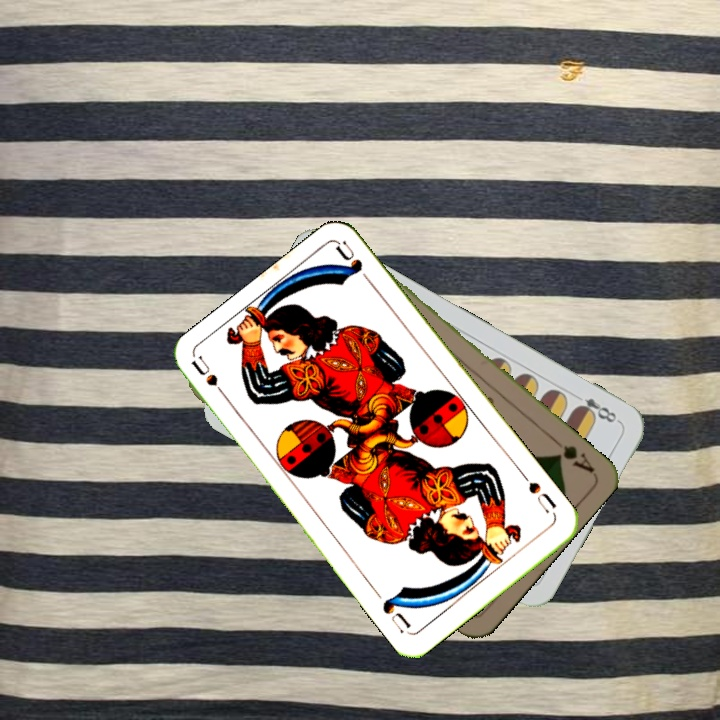E8: (570, 389, 623, 426)
GA: (547, 433, 597, 476)
SU: (188, 353, 234, 406), (517, 469, 559, 517)
